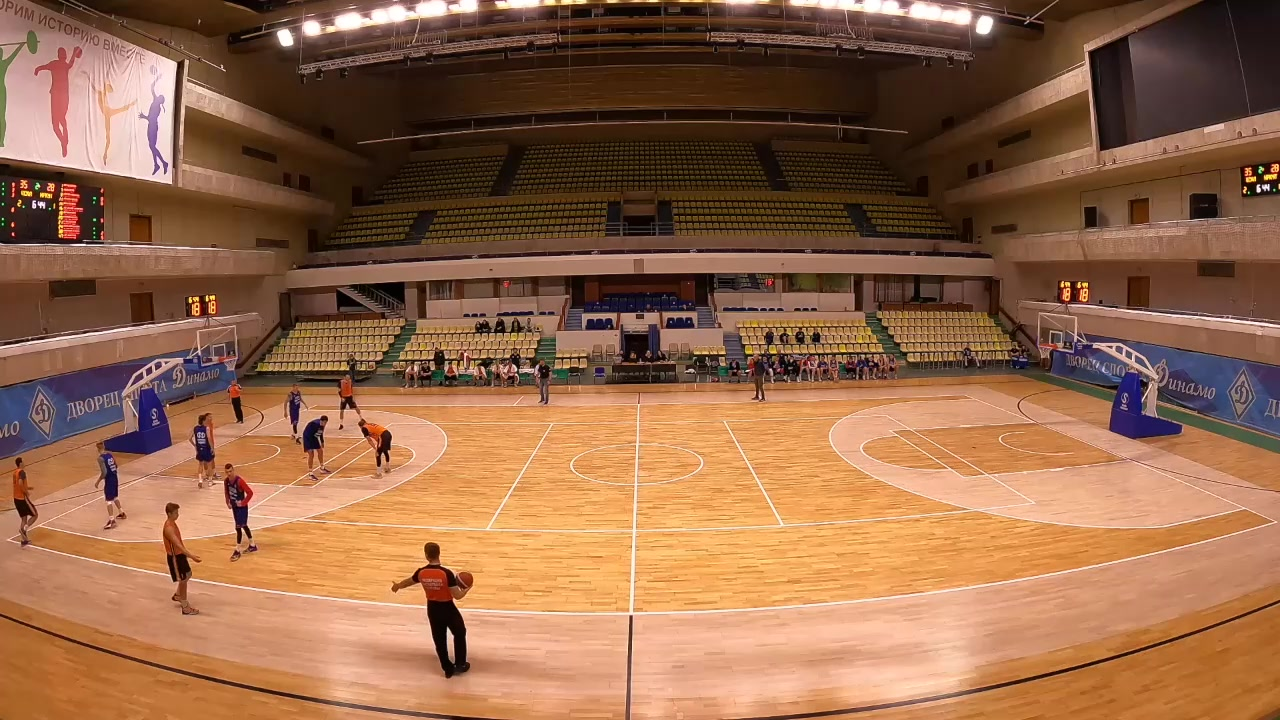basketball: (293, 492, 328, 522)
